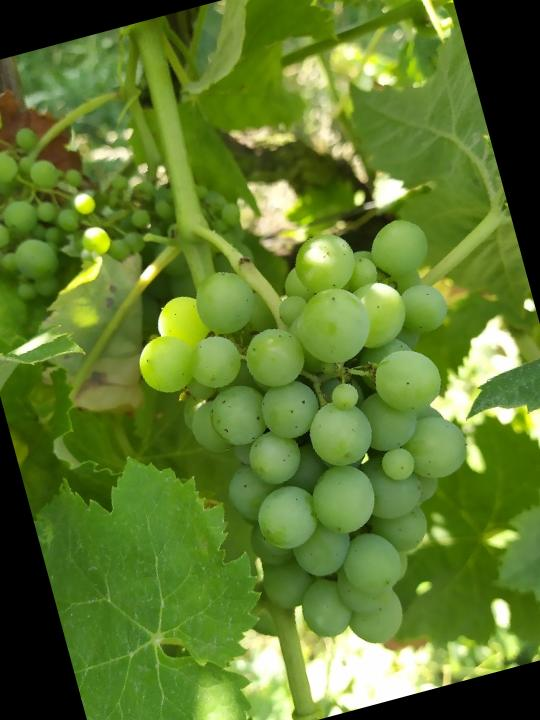grape: (116, 206, 529, 685)
